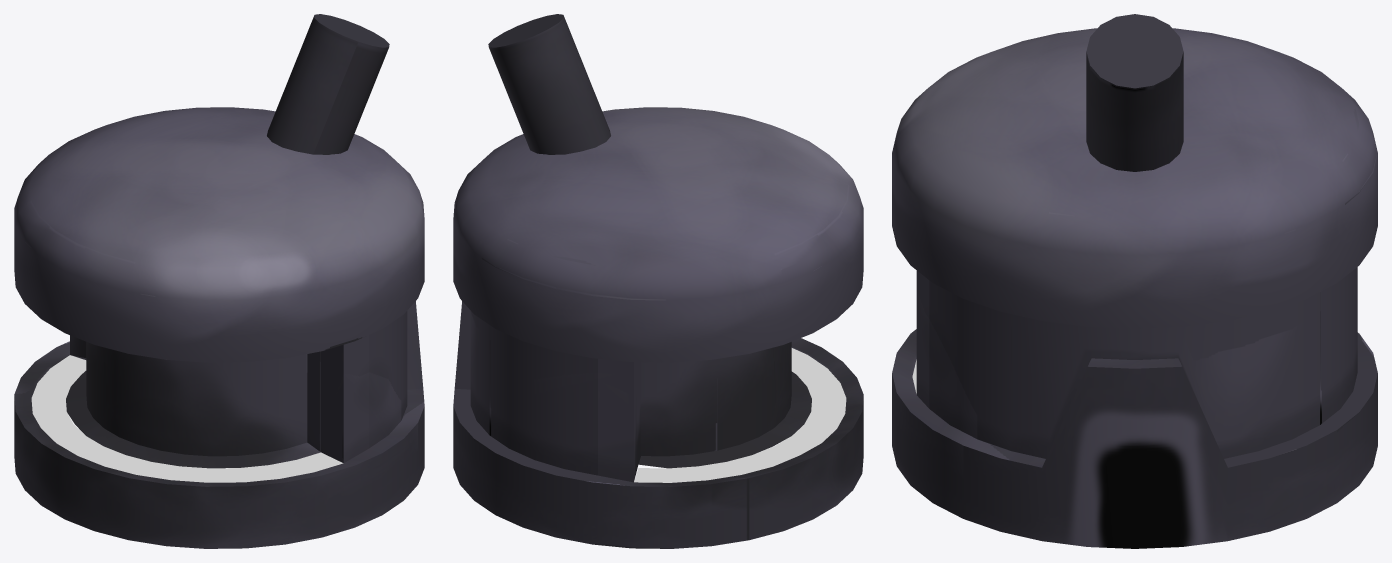
File: smeltery.fbx
The picture shows the model from 3 angles, left to right: view 1: azimuth 30°, elevation 25°; view 2: azimuth 150°, elevation 25°; view 3: azimuth 270°, elevation 25°; orthographic projection. The views are drawn at different scales.
Visible parts, largest first — view 1: Smeltery, Liquid; view 2: Smeltery, Liquid; view 3: Smeltery.
Boxes of the visible parts, <box> form: Smeltery: <box>14,14,424,548</box>; Liquid: <box>31,355,343,482</box>; Smeltery: <box>453,14,863,548</box>; Liquid: <box>634,348,846,482</box>; Smeltery: <box>892,14,1377,548</box>.
Size of the model in its own units: 600 by 668 by 600.
2 materials, 1 textured.
